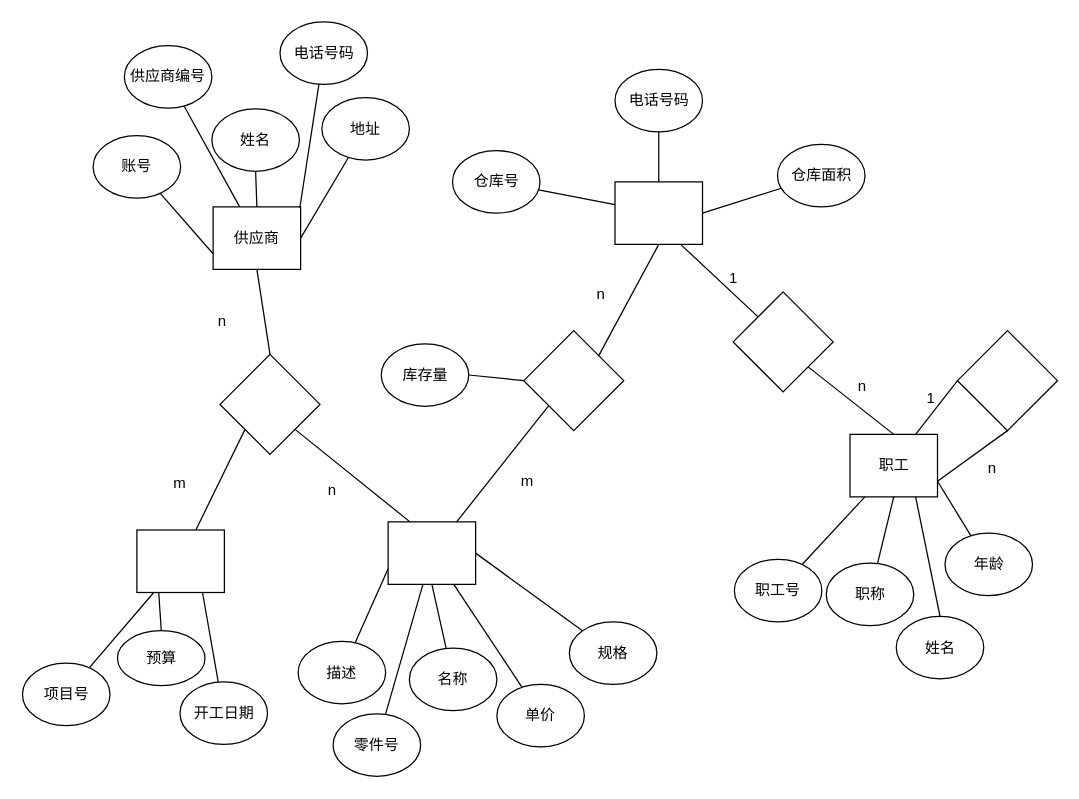
The diagram is 1079 pixels wide and 799 high, and some of its shapes have lost their labels. The shapes that lost their labels are listed below. From the top down, each one's box as (x1, y1, x2, y2) in pixels, then its label:
(614, 181, 702, 244): 仓库
(732, 291, 833, 392): 工作
(522, 329, 624, 431): 库存
(956, 329, 1058, 431): 领导
(219, 353, 320, 454): 供应
(136, 529, 224, 592): 项目
(387, 521, 476, 584): 零件
